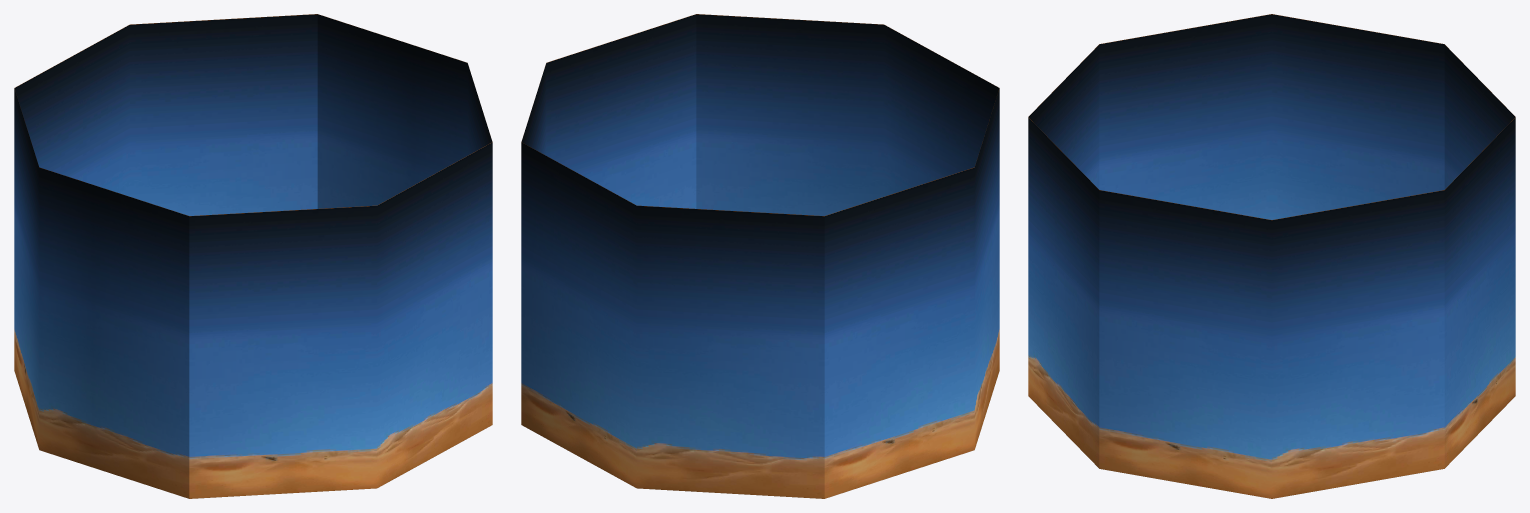
The model's file is samosaidao 1.fbx.
3 renders of one model, left to right at view 1: azimuth 30°, elevation 25°; view 2: azimuth 150°, elevation 25°; view 3: azimuth 270°, elevation 25°, orthographic.
Visible parts, largest first — view 1: Box001; view 2: Box001; view 3: Box001.
Boxes of the visible parts, bbox=[...] form: Box001: bbox=[14, 14, 492, 498]; Box001: bbox=[521, 14, 999, 498]; Box001: bbox=[1028, 14, 1515, 498].
Size of the model in its own units: 2397 by 1513 by 2397.
